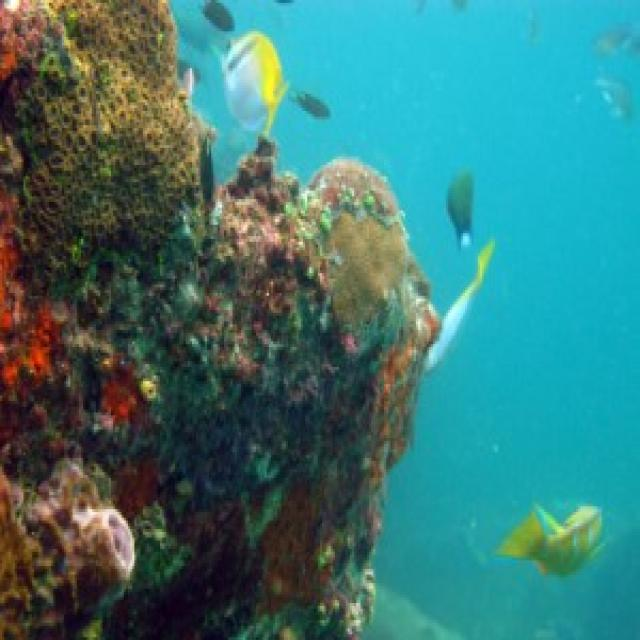Healthy: (1, 1, 436, 638)
